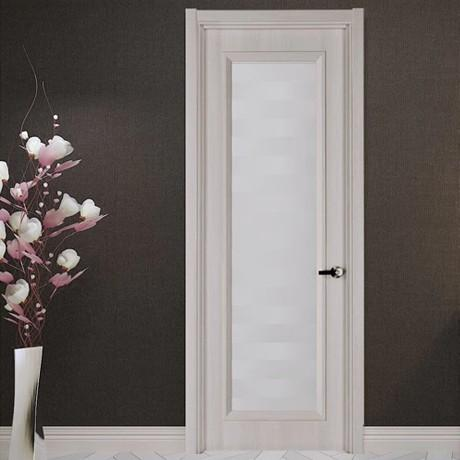door: (202, 30, 347, 448)
